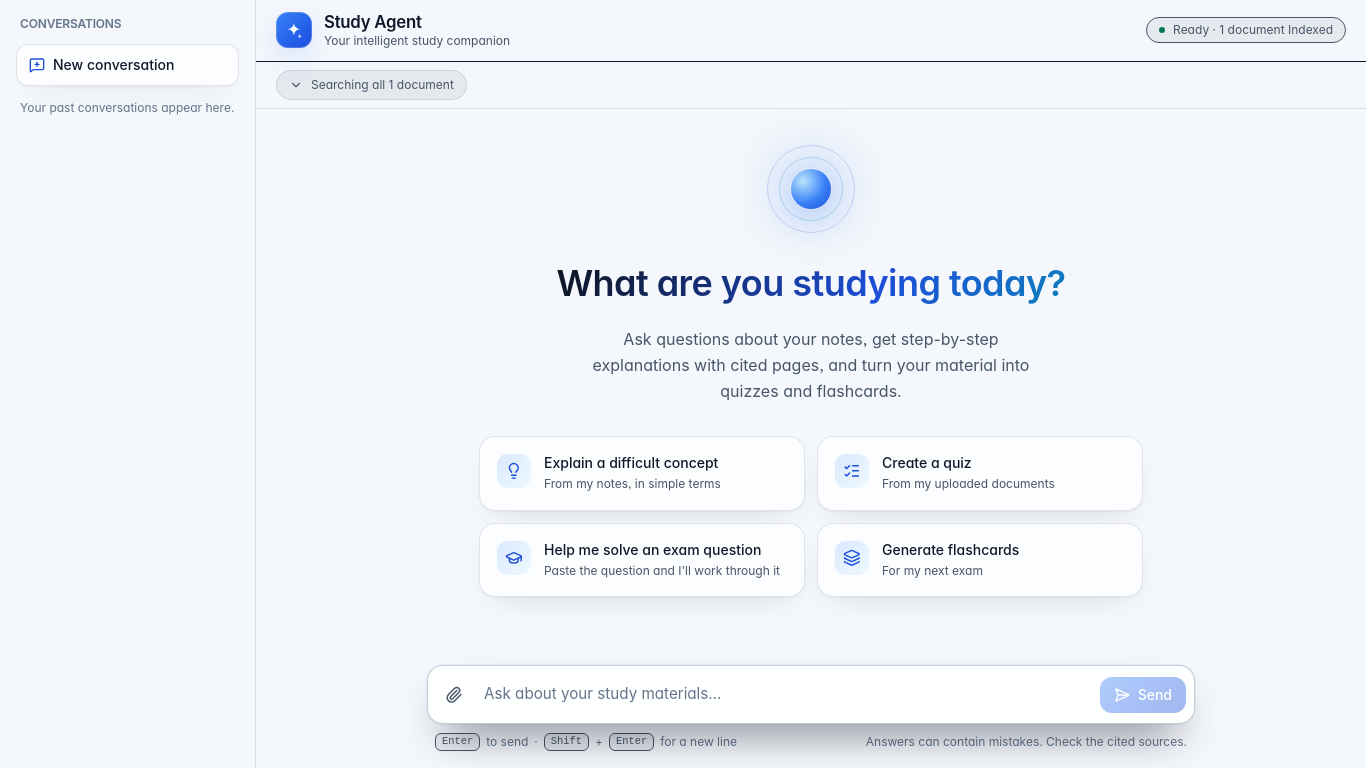
Test: StudyChat › streams an answer with a timeline and citations, scoped to the selected documents
Click the heading "Searching all 1 document" at (371, 85), box x1=276 y1=70 x2=467 y2=100
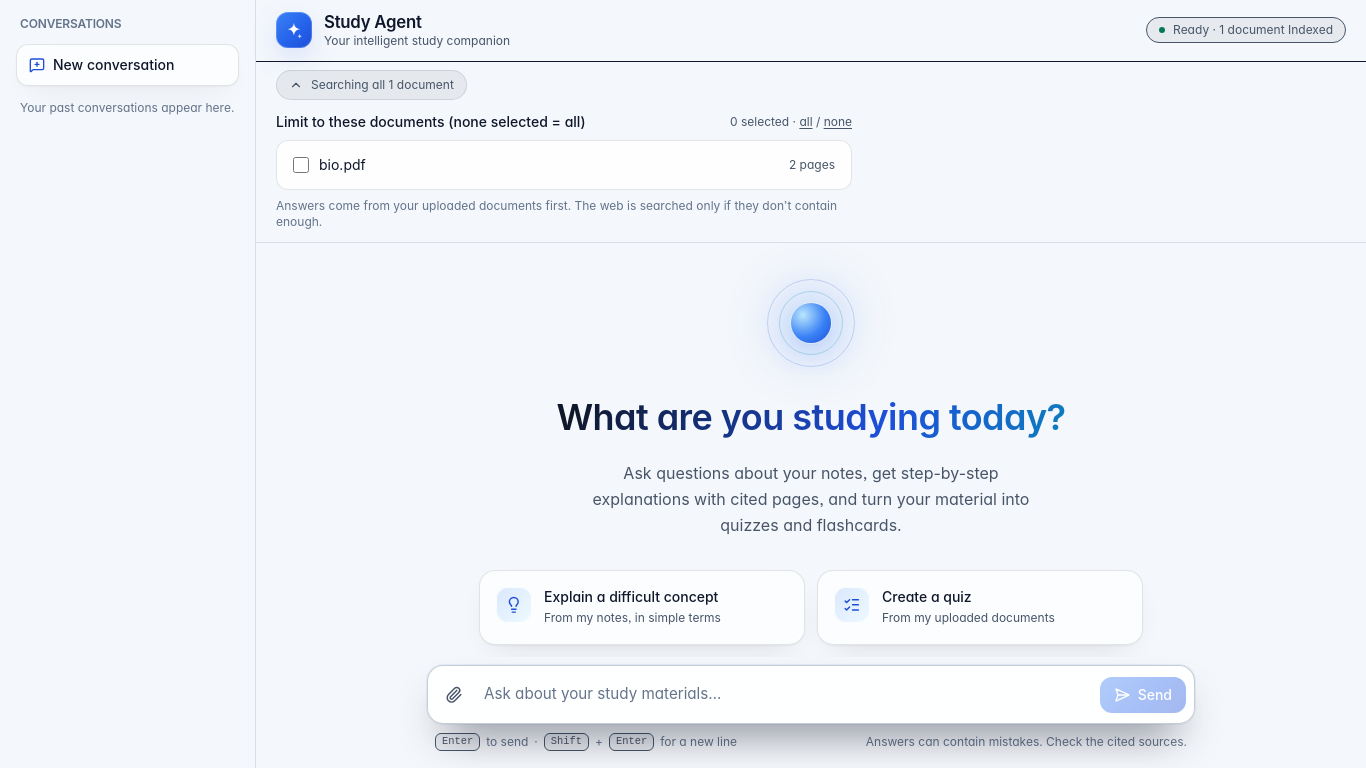
Click the checkbox labelled "bio.pdf 2 pages" at (301, 165), box x1=293 y1=157 x2=309 y2=173
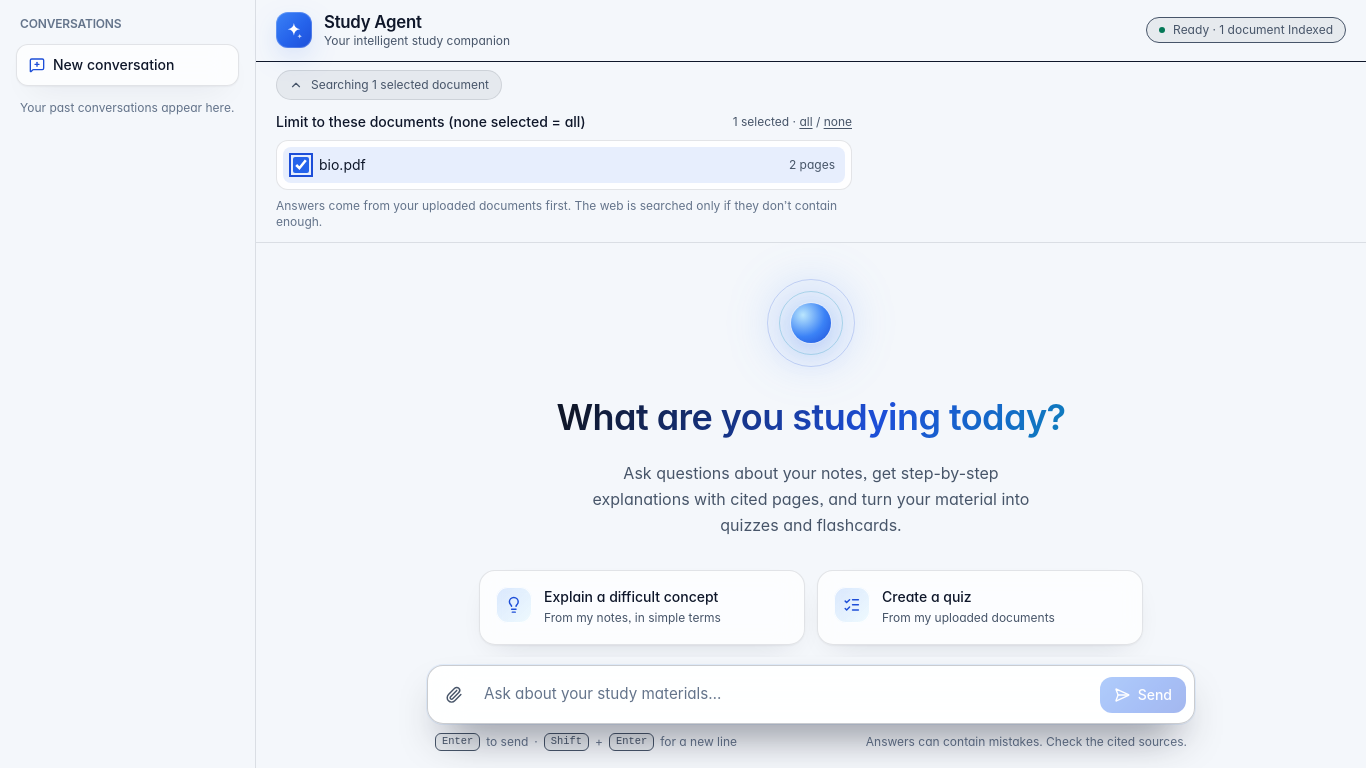
Type "What do mitochondria make?" into the text box named "Ask a question" at (786, 694), box x1=478 y1=674 x2=1094 y2=715
Then press Enter
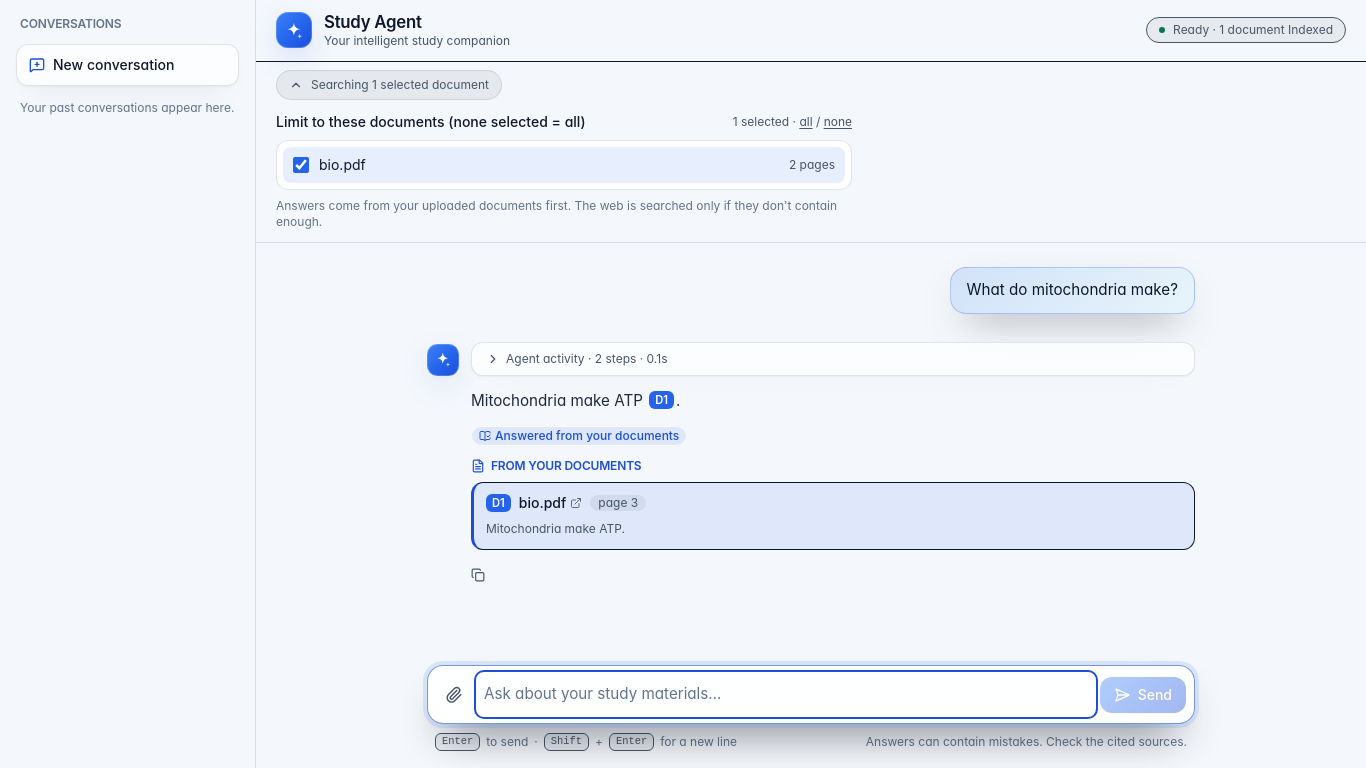
Now the text "Answered from your documents" is shown, box x1=471 y1=426 x2=687 y2=446
Now the text "What do mitochondria make?" is shown, box x1=950 y1=267 x2=1195 y2=314
Now the button named "Document source D1" is shown, box x1=649 y1=391 x2=674 y2=409
